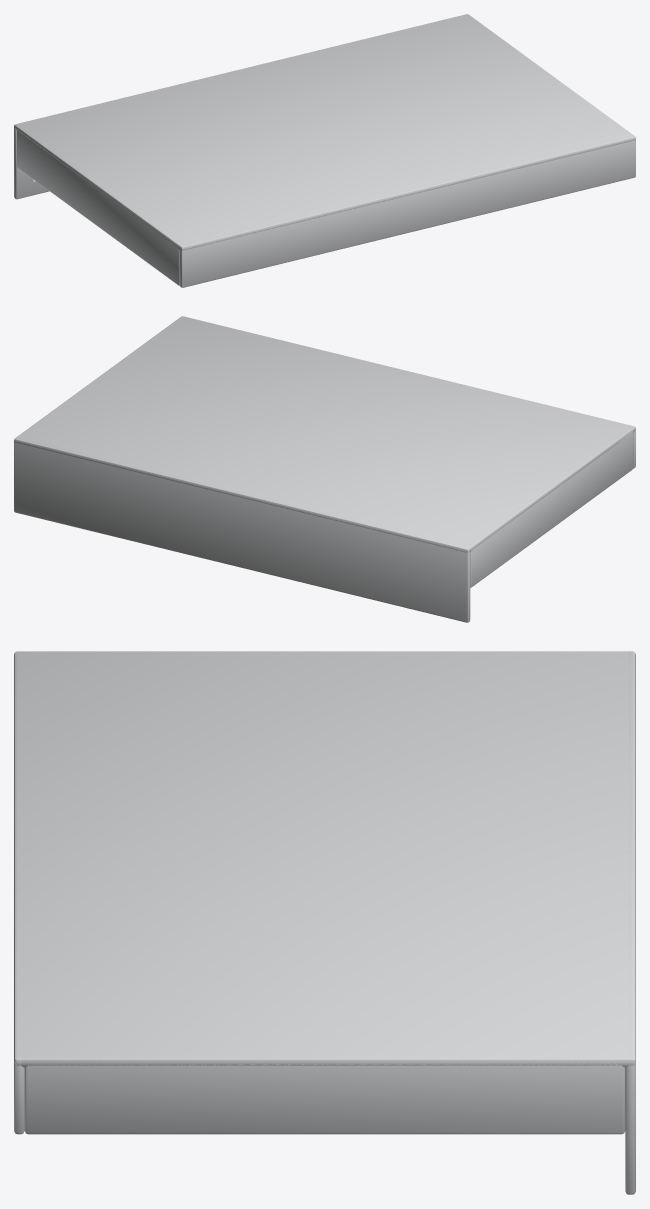
File: tape_case_lid.glb
3 views of the same model, one above another, from view 1: azimuth 30°, elevation 25°; view 2: azimuth 150°, elevation 25°; view 3: azimuth 270°, elevation 25° (orthographic). The views are drawn at different scales.
Visible parts, largest first — view 1: case_lid; view 2: case_lid; view 3: case_lid.
Part boxes in pixels (bbox=[...]): case_lid: bbox=[14, 14, 635, 287]; case_lid: bbox=[14, 316, 635, 622]; case_lid: bbox=[14, 651, 635, 1194].
Size of the model in its own units: 0.109 by 0.017 by 0.07.
4 materials, 3 textured.
